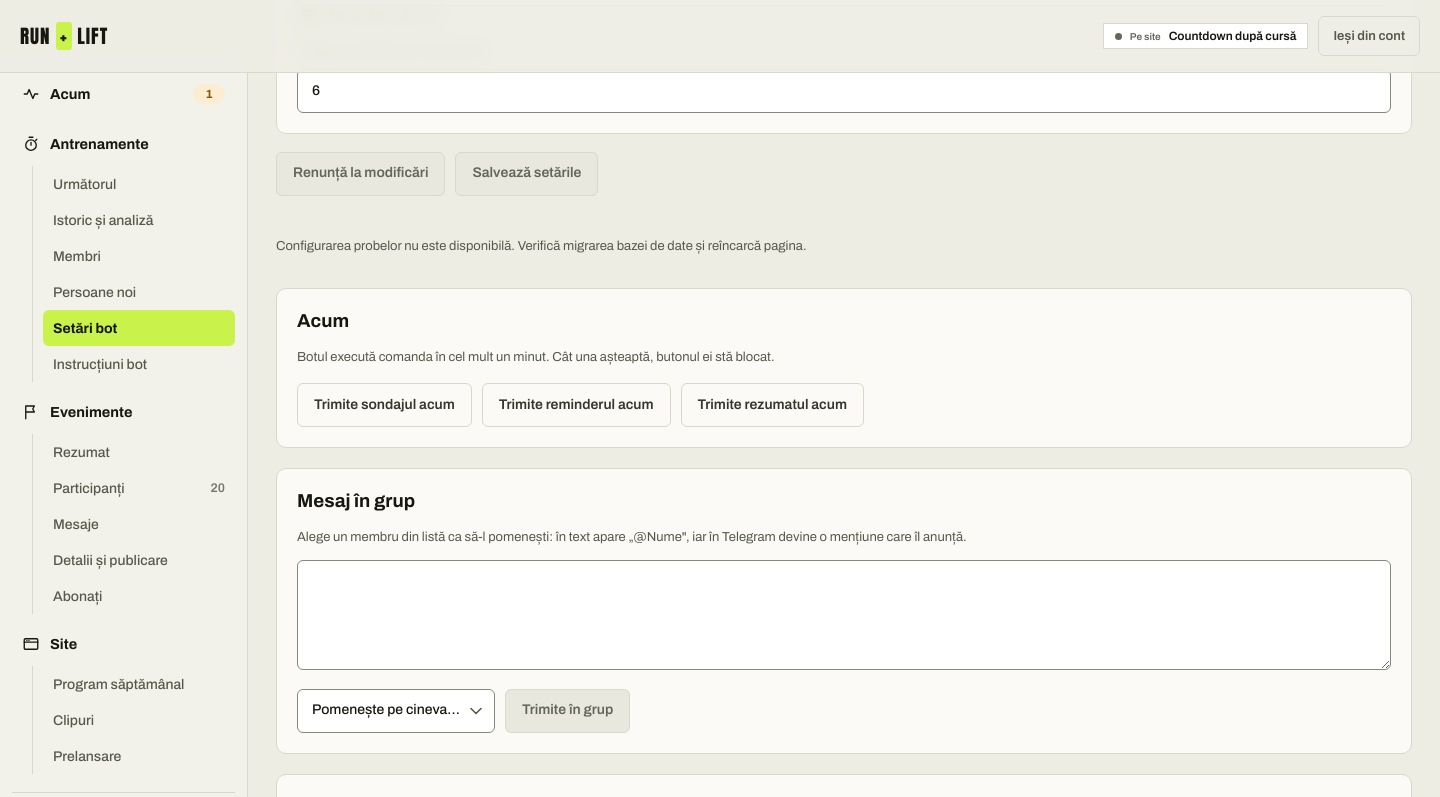
Scenario: preview-ul păstrează probele indisponibile și comenzile botului reușite
The image size is (1440, 797).
(page scrolled)
Check: the text "Configurarea probelor nu este disponibilă. Verifică migrarea bazei de date și reîncarcă pagina." is shown, box [276, 239, 806, 253]
Click the button "Trimite sondajul acum". click: (384, 406)
box: [297, 384, 472, 428]
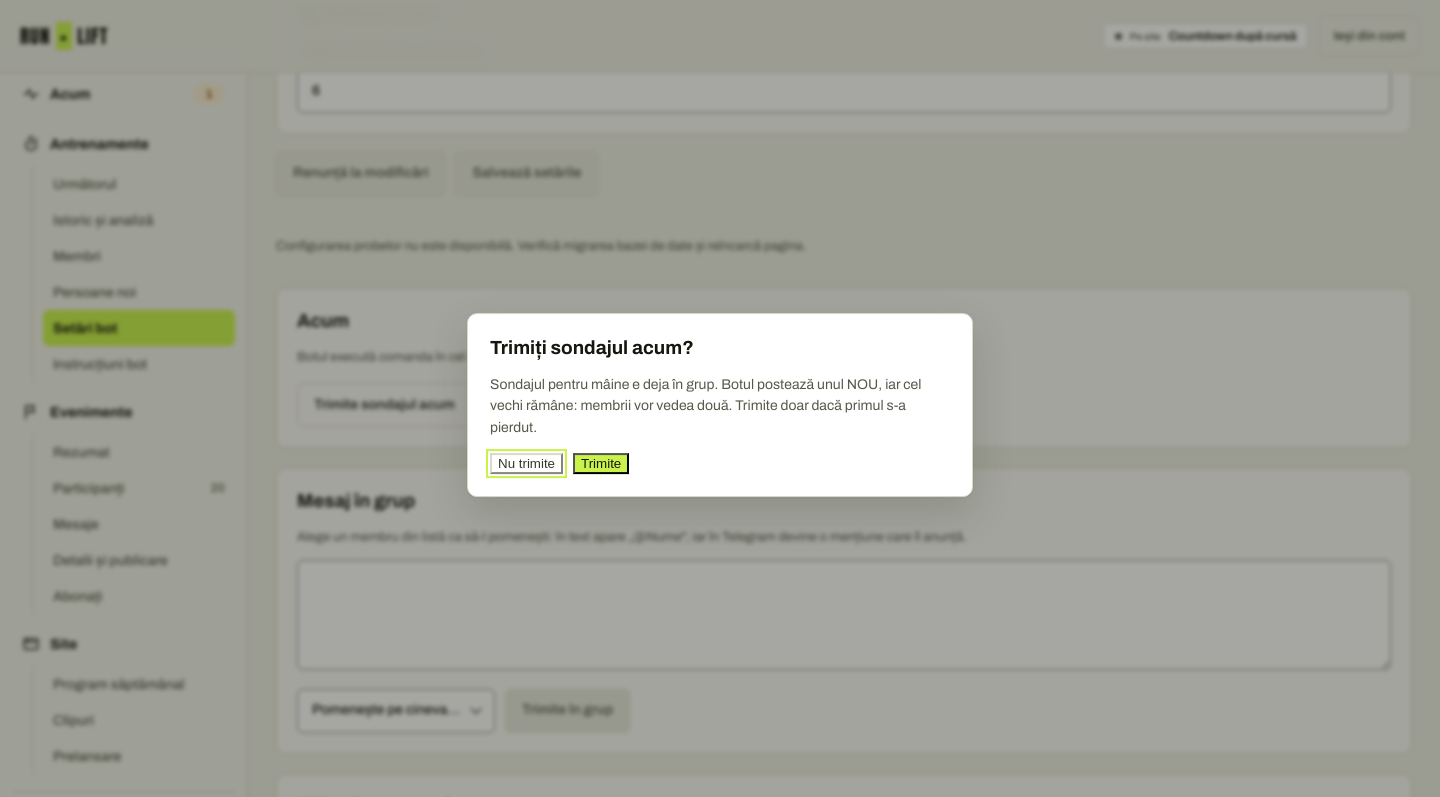
Click the button "Trimite". click: (601, 463)
box: [573, 453, 629, 474]
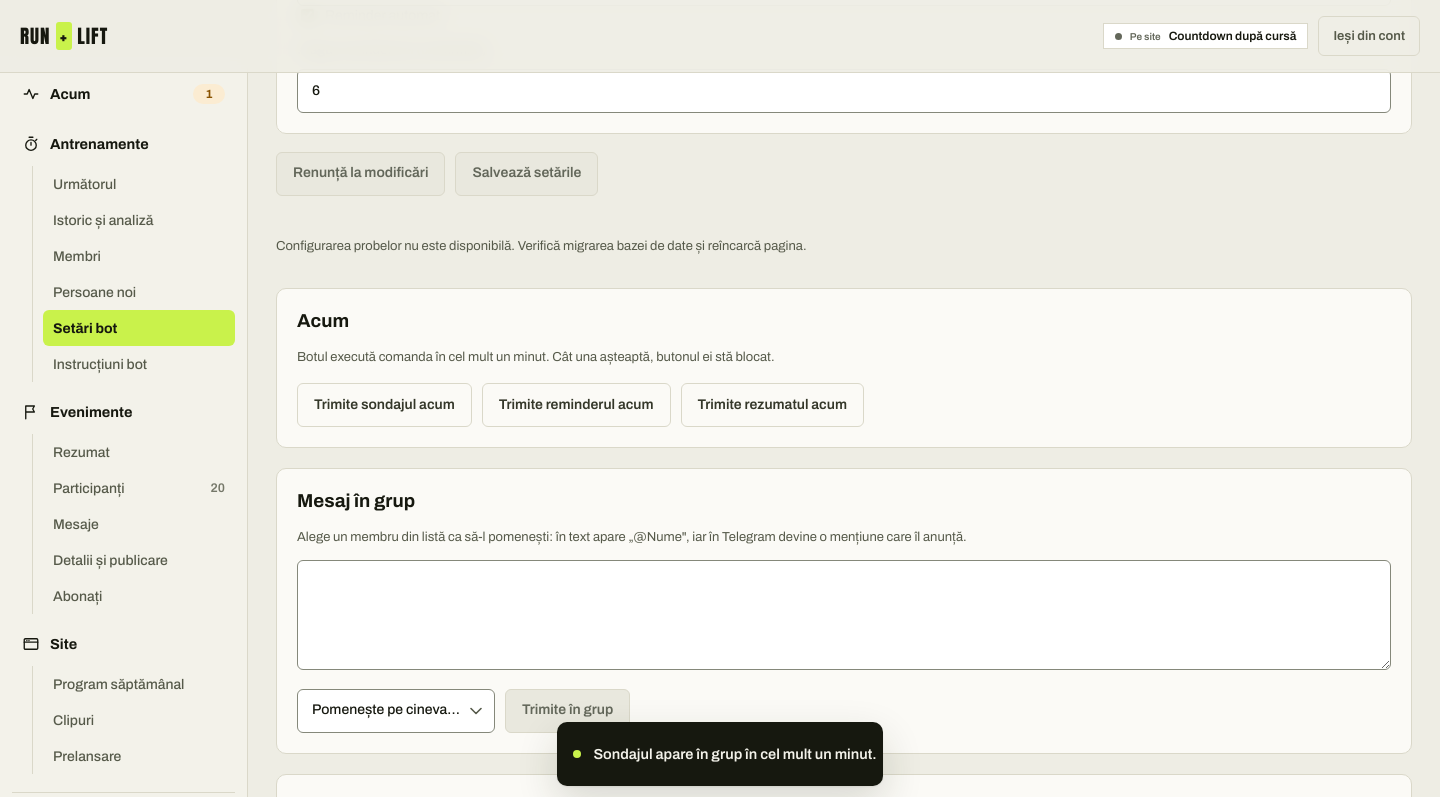
Check: the text "Sondajul apare în grup în cel mult un minut." is shown, box [593, 746, 877, 762]
